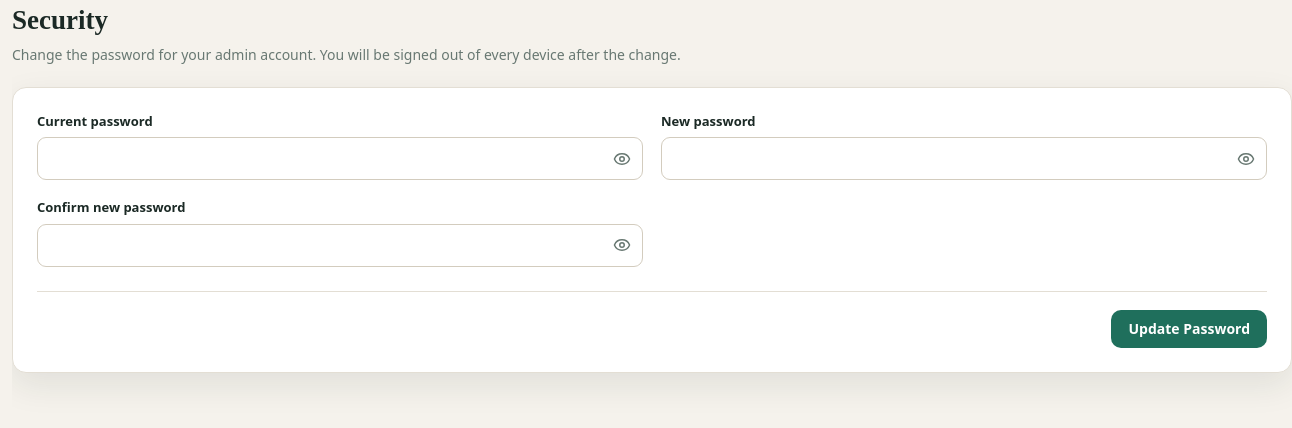
Test: security page › rejects a confirmation that does not match
Expected: the heading "Security" is shown, [12,5,108,35]
Type "current-password" into the password field labelled "Current password" at (340, 158), box [37,137,643,180]
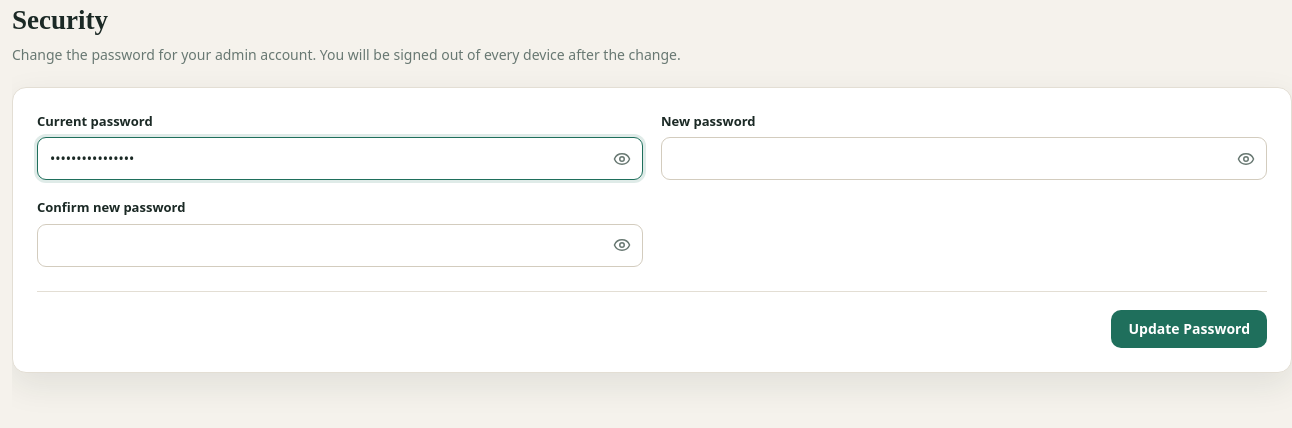
Type "a-brand-new-passphrase" into the password field labelled "New password" at (964, 158), box [661,137,1267,180]
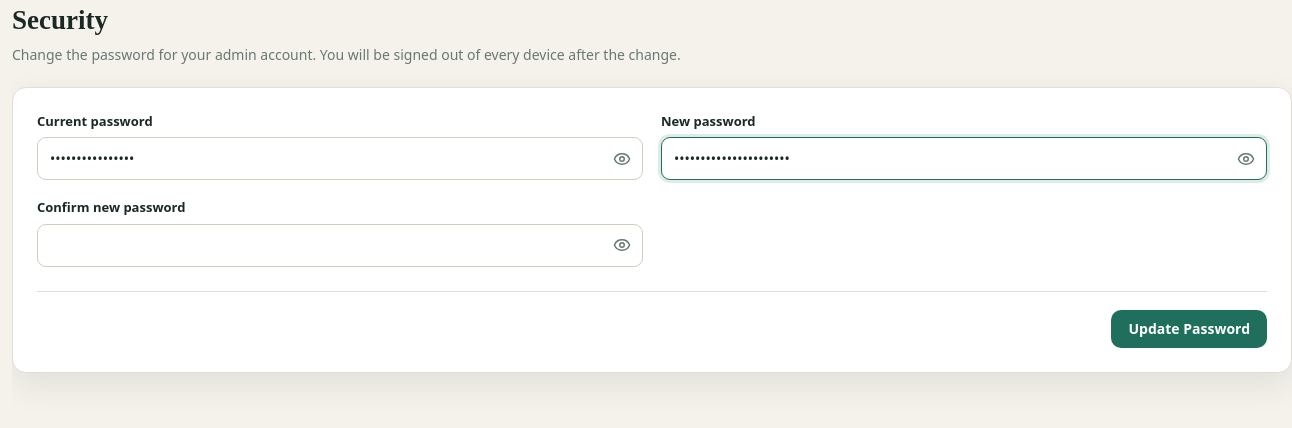
Type "a-different-passphrase" into the password field labelled "Confirm new password" at (340, 245), box [37,224,643,266]
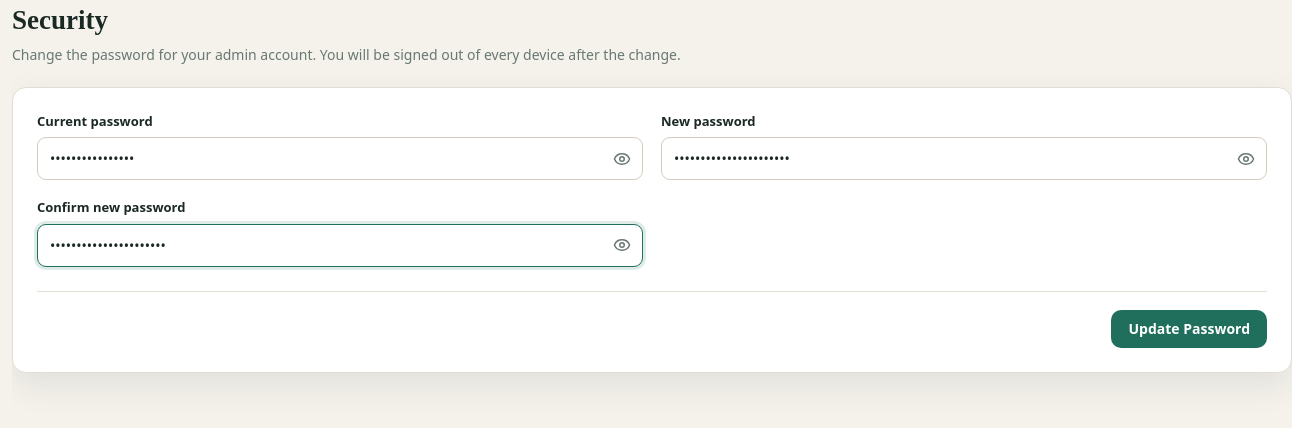
Click the button "Update Password" at (1189, 329), box [1112,310,1267,348]
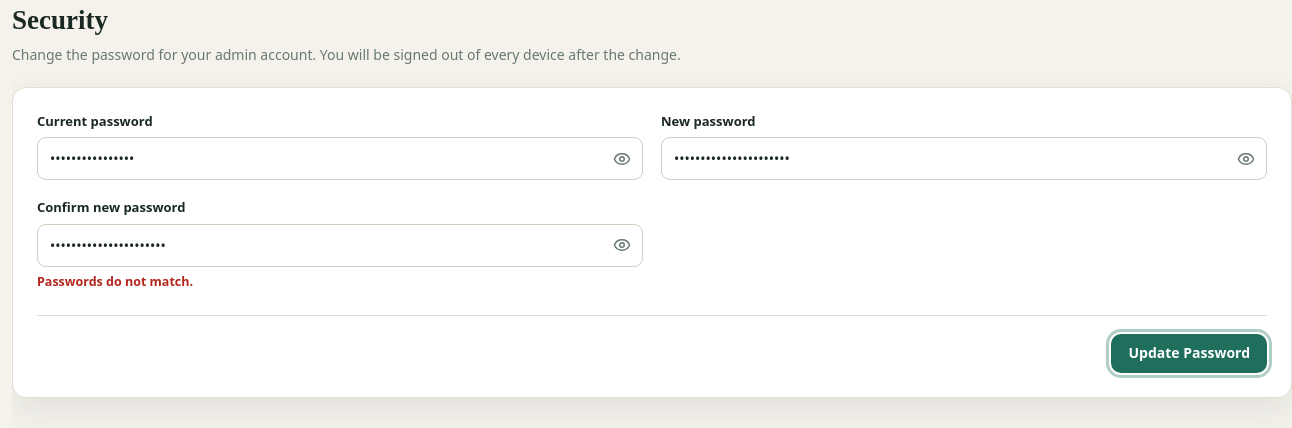
Expected: the text "Passwords do not match." is shown, [37,272,193,290]
